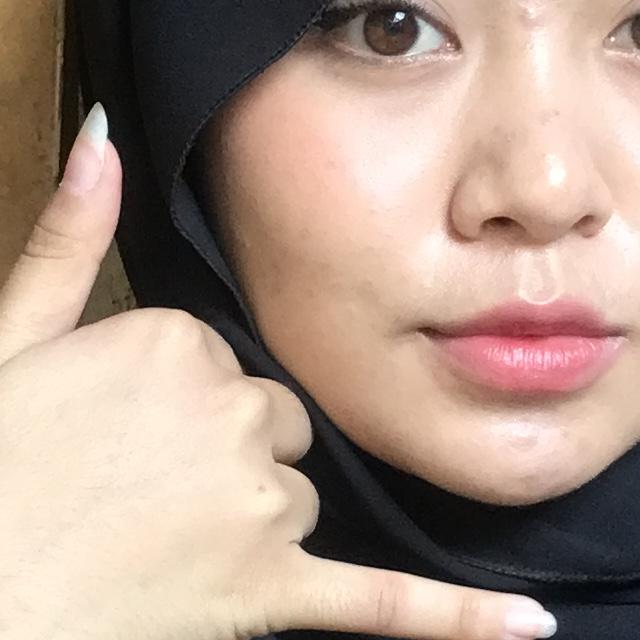telpon: (0, 86, 590, 640)
